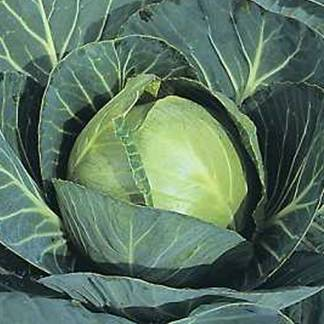cabbage: (36, 32, 268, 283)
